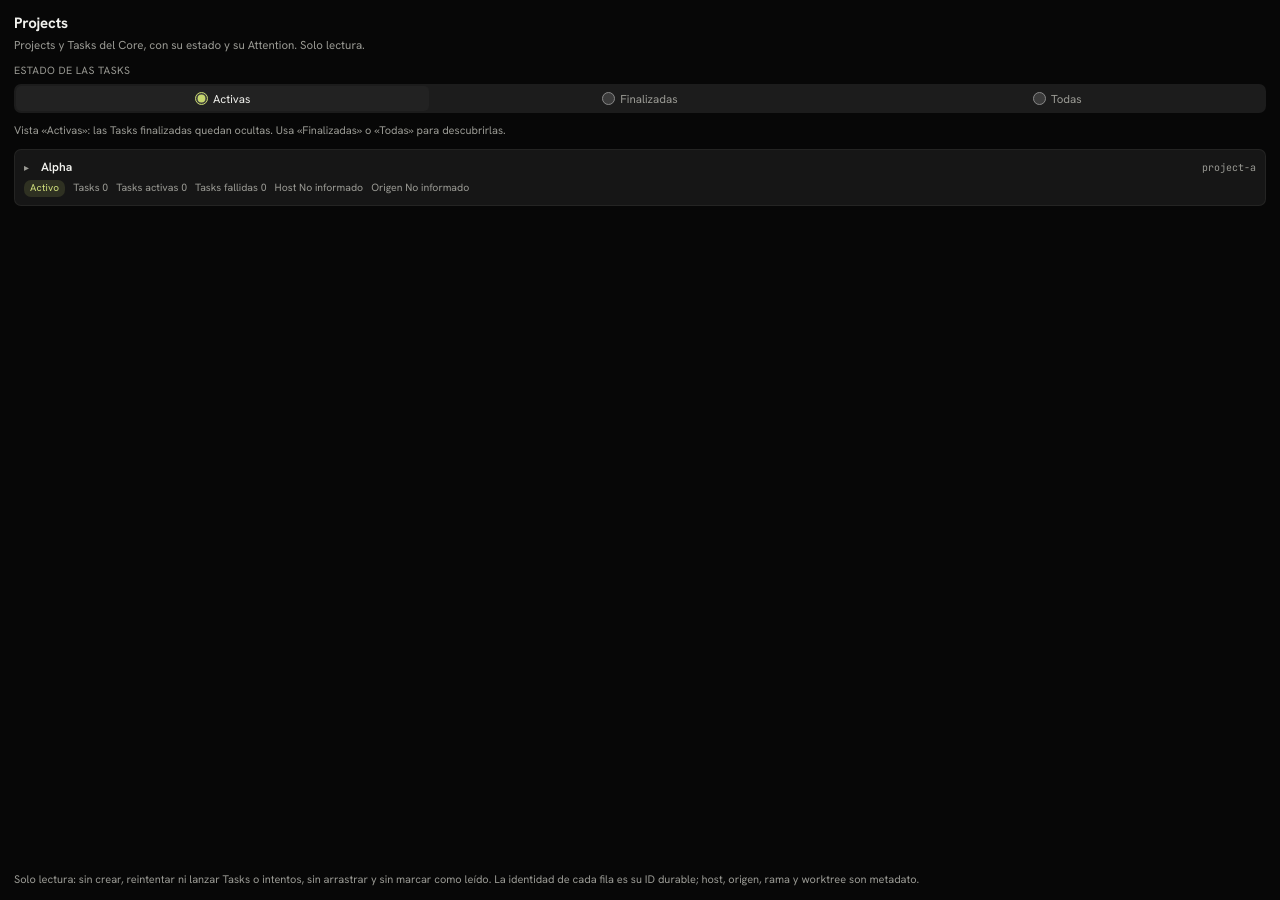
Test case: ProjectsSidebar › retiene las páginas cargadas y restaura el foco tras recuperar una cabecera desconectada
Click the text "Alpha": (57, 167) left=41, top=159, right=72, bottom=175
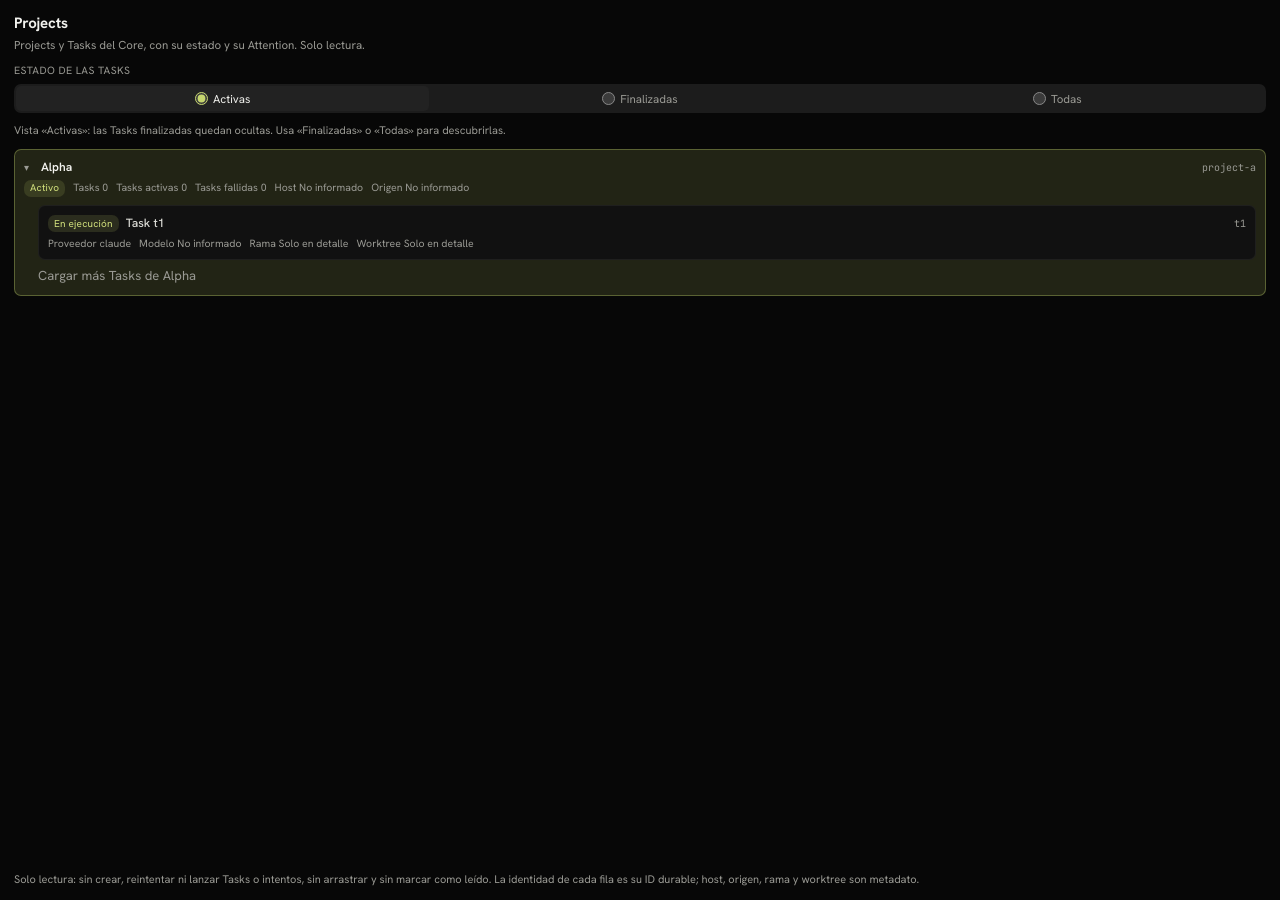
Click the button "Cargar más Tasks de Alpha": (117, 276) left=38, top=266, right=196, bottom=285
Wait 1000 ms
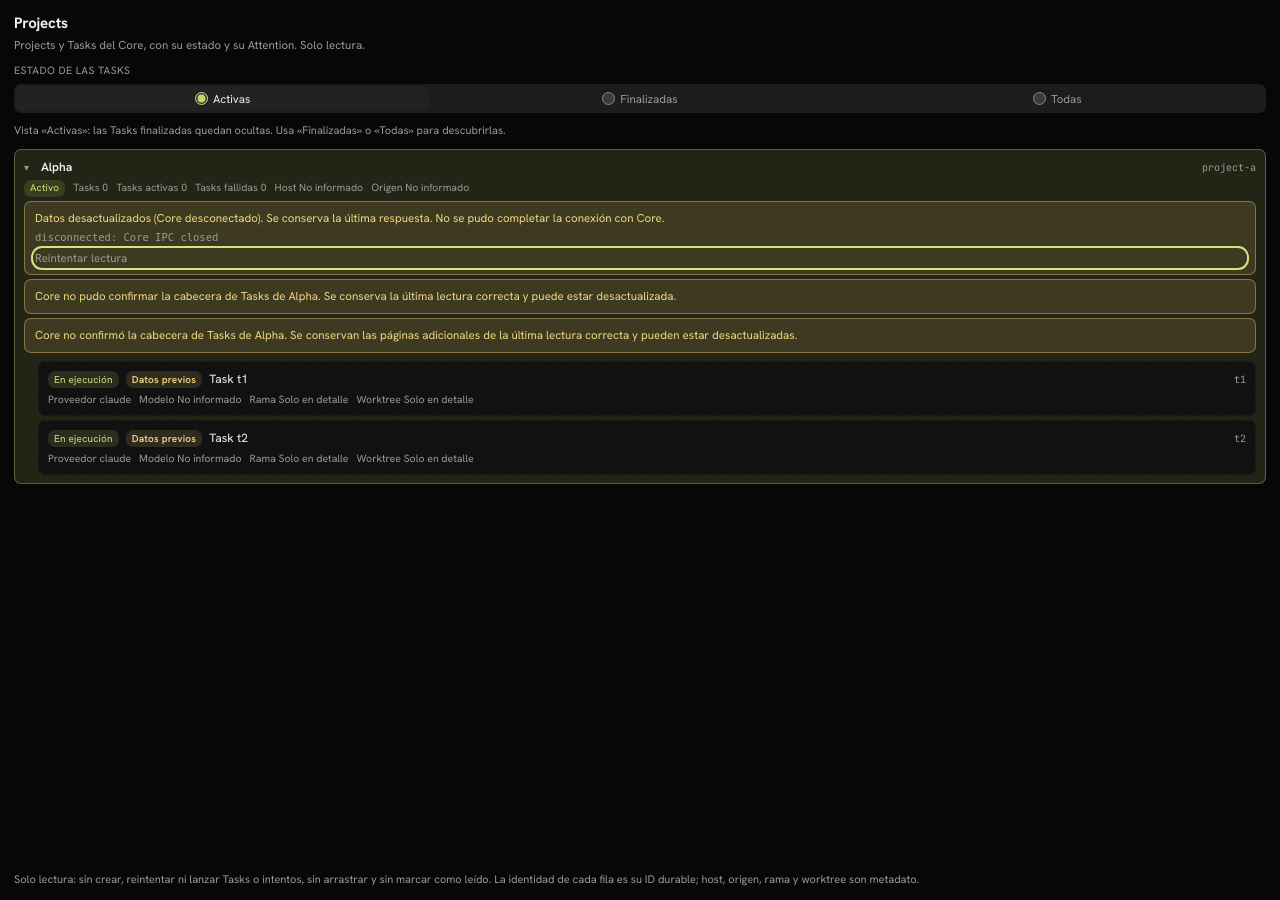
Expected: the text "Task t1" is shown, left=209, top=370, right=248, bottom=386
Expected: the text "Core desconectado" is shown, left=157, top=210, right=258, bottom=225
Expected: the text "Task t2" is shown, left=209, top=430, right=248, bottom=446
Click the button with aria-label "Reintentar lectura de las Tasks de Alpha": (81, 257) left=35, top=250, right=1245, bottom=266
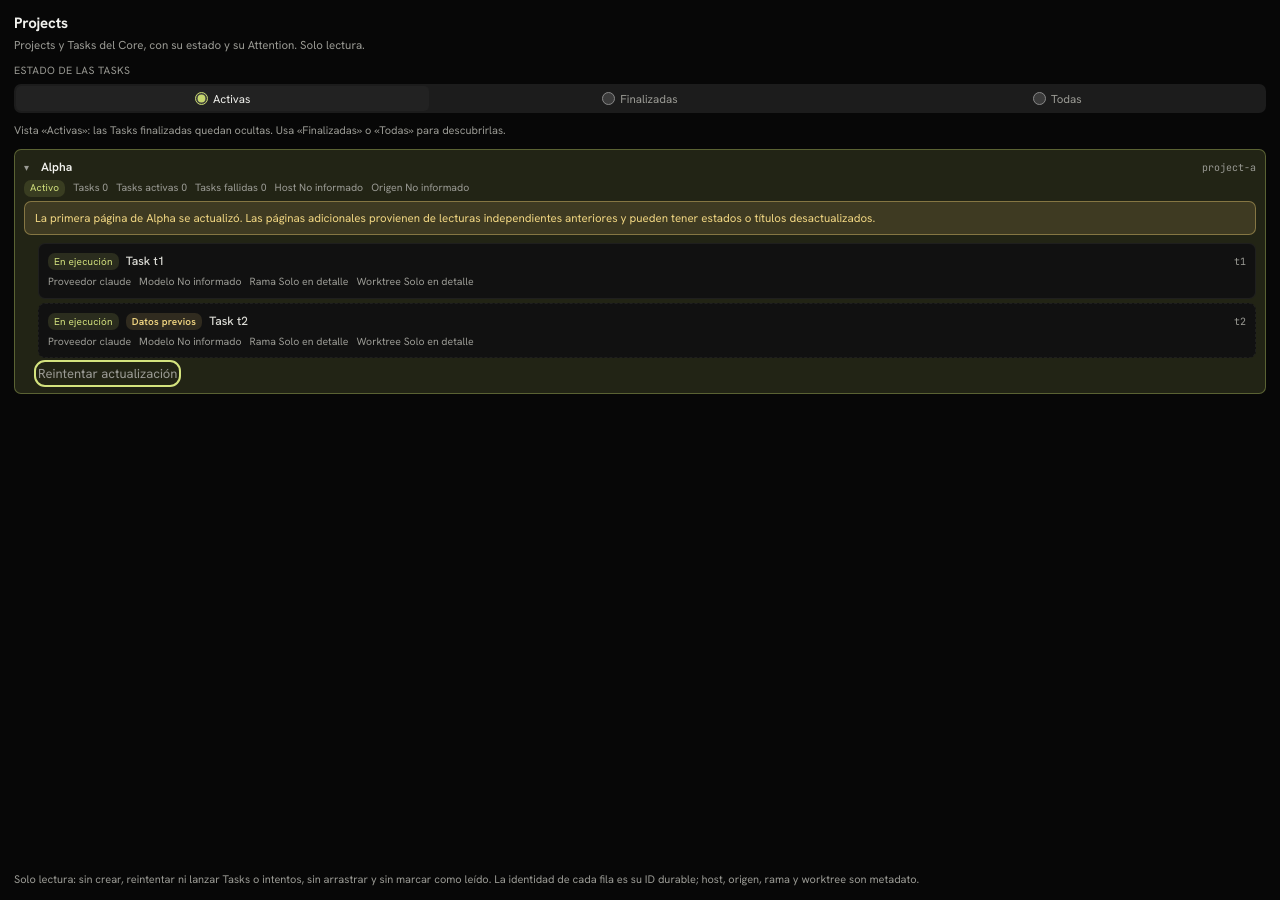
Expected: the text "Task t2" is shown, left=209, top=312, right=248, bottom=328
Click the button with aria-label "Reintentar actualización de páginas de Tasks de Alpha": (108, 373) left=38, top=364, right=178, bottom=383
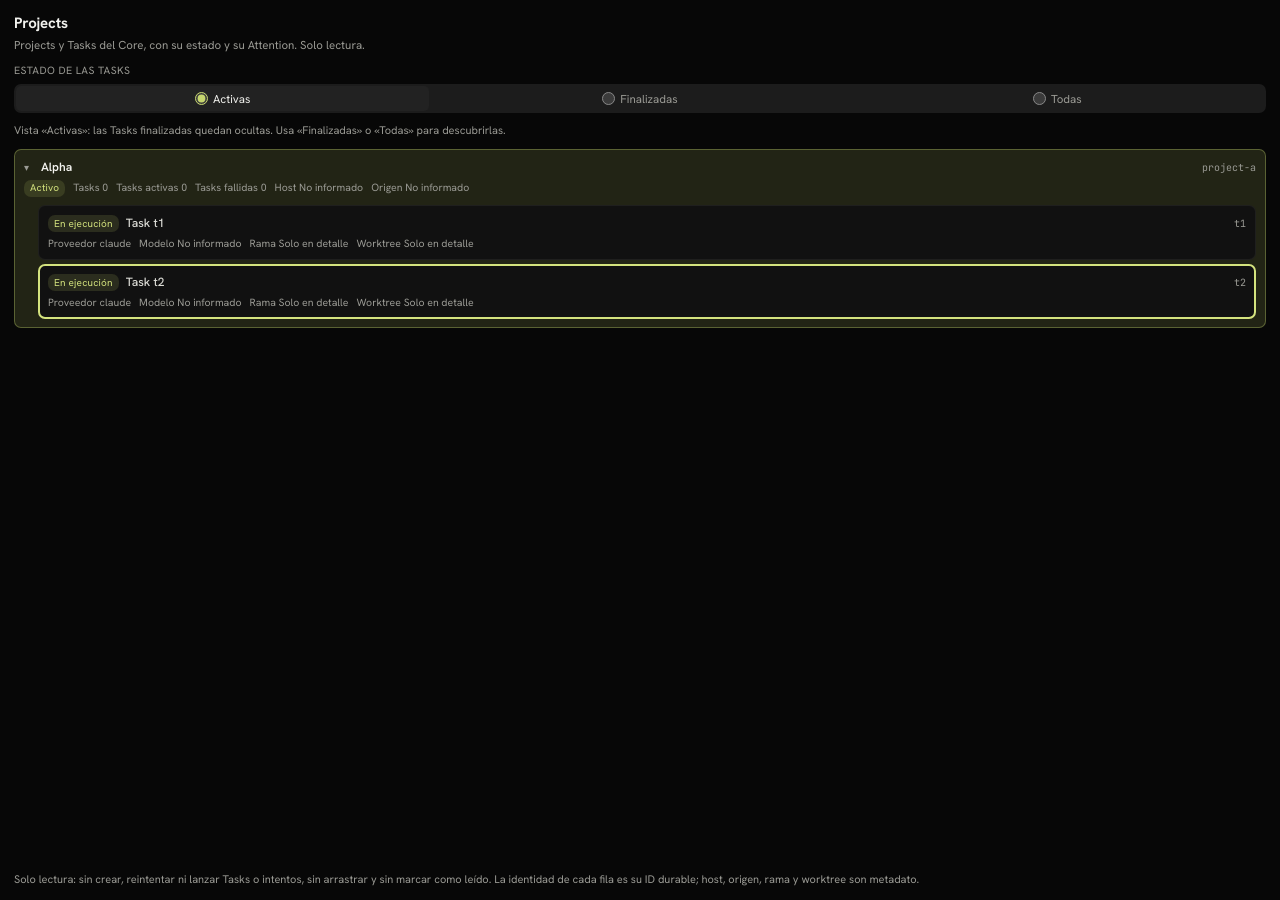
Expected: the text "Task t2" is shown, left=126, top=274, right=164, bottom=290
Expected: the message with test id "stale-task-pages-project-a" is gone
